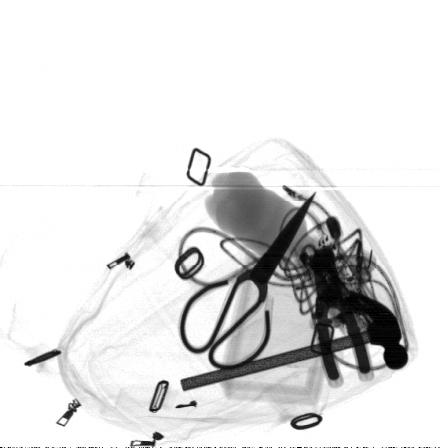Hammer: (180, 288, 409, 392)
Pliers: (309, 245, 375, 389)
Scissors: (179, 190, 319, 372)
